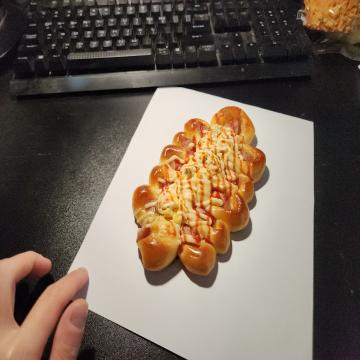pizza_bread: (132, 106, 266, 282)
